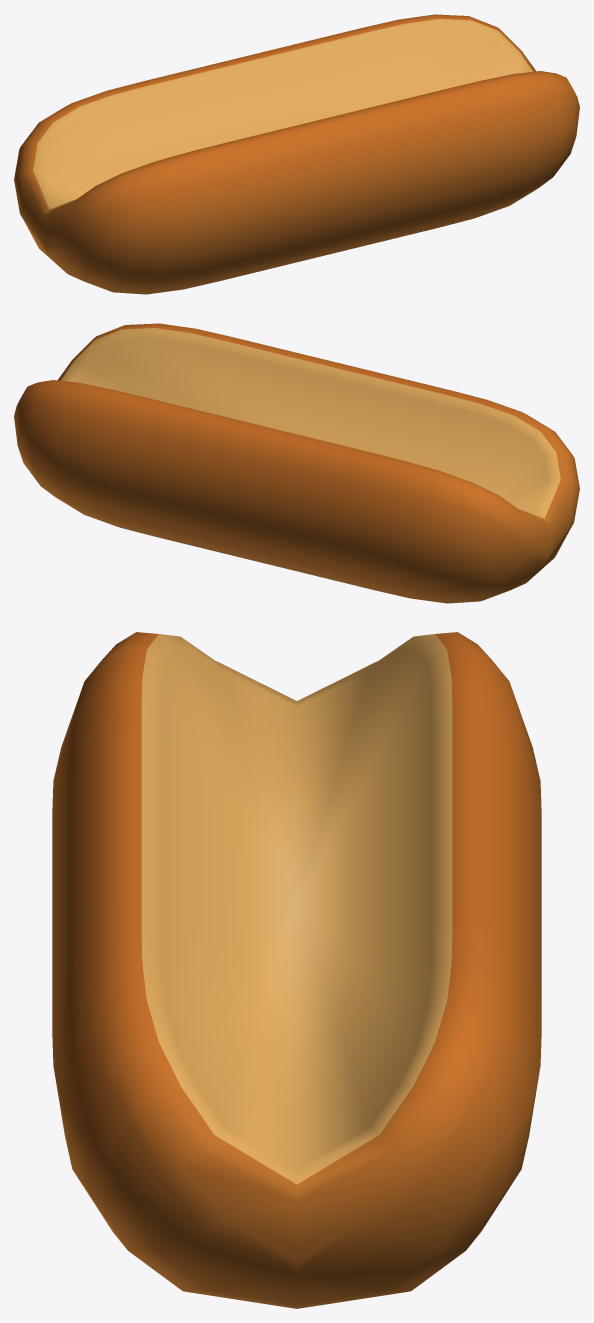
File: Buns.fbx
3 renders of one model, top to bottom at view 1: azimuth 30°, elevation 25°; view 2: azimuth 150°, elevation 25°; view 3: azimuth 270°, elevation 25°, orthographic. The views are drawn at different scales.
Parts seen in each view (by area): view 1: BUNS; view 2: BUNS; view 3: BUNS.
Part boxes in pixels (x1,y1,x2,y2): BUNS: (14, 14, 579, 294); BUNS: (14, 323, 579, 603); BUNS: (52, 632, 541, 1308).
Size of the model in its own units: 5.29 by 1.53 by 2.19.
Materials: 1 (1 with a texture image).
